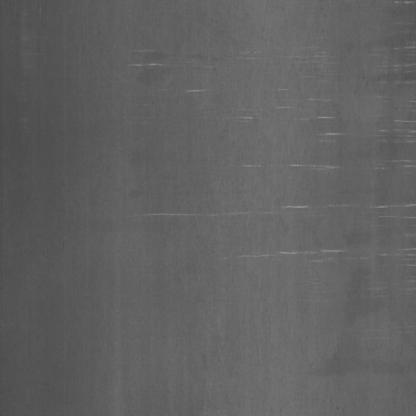waist_folding: (216, 30, 416, 299)
